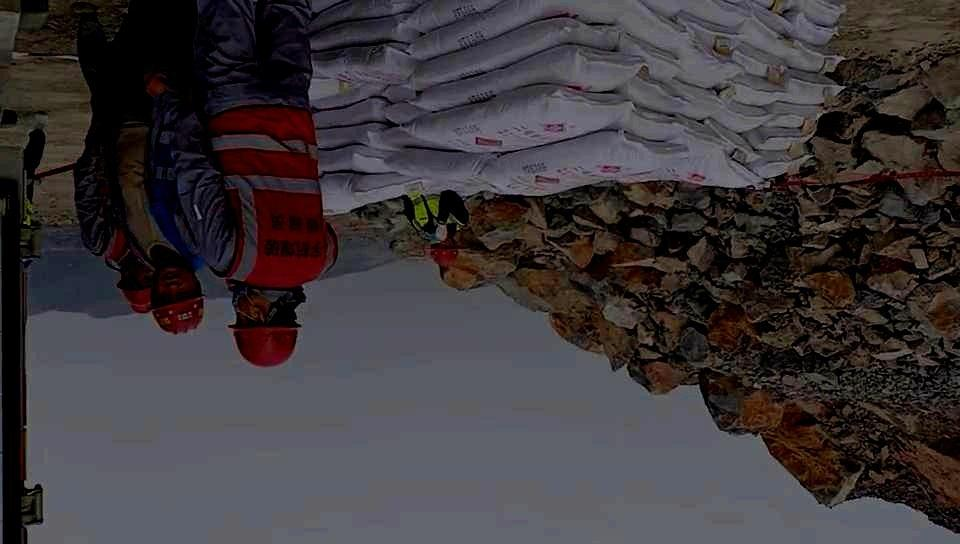helmet: (226, 286, 302, 368), (148, 263, 208, 336), (116, 259, 153, 314), (429, 235, 460, 268)
